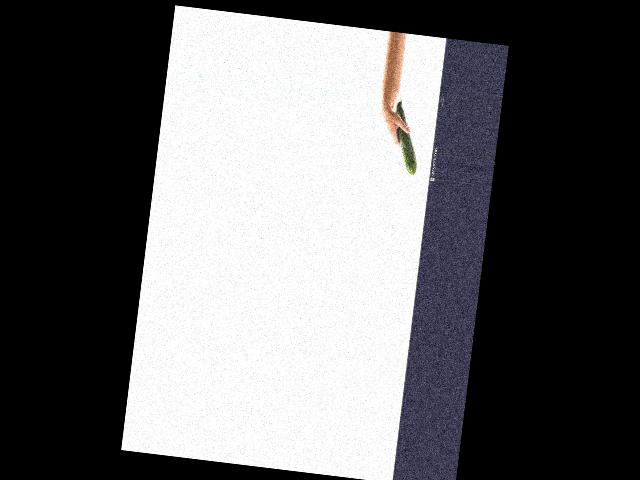cucumber: (388, 98, 424, 175)
